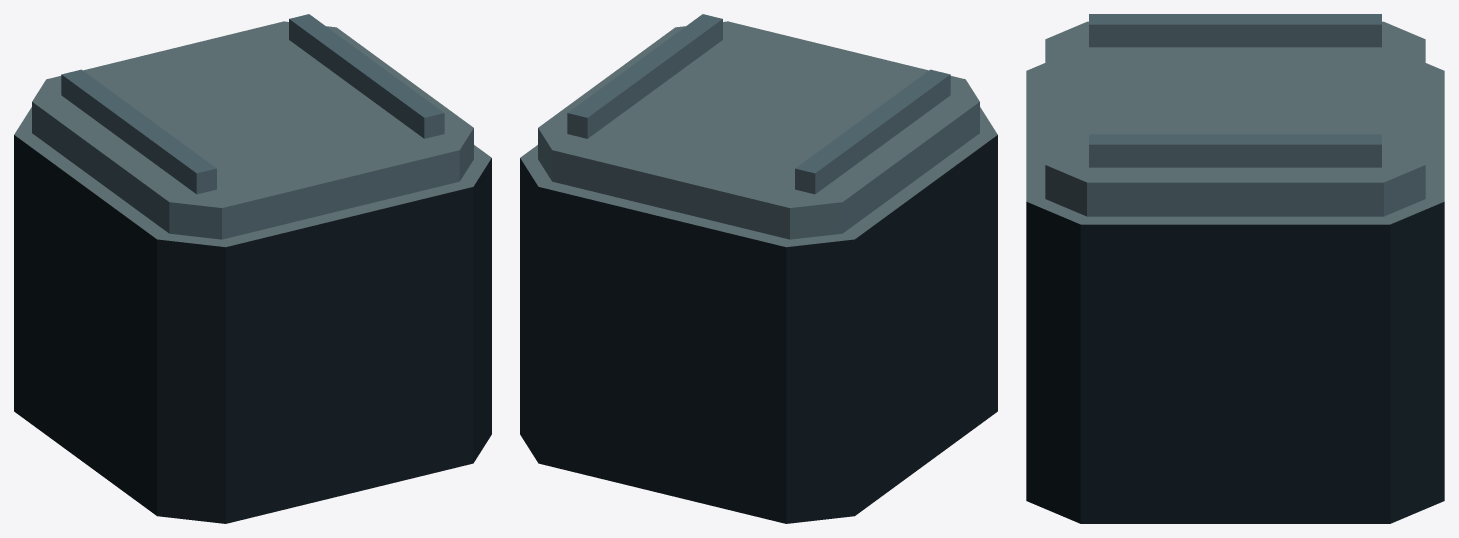
File: cover.glb
3 views of the same model, side by side, from view 1: azimuth 30°, elevation 25°; view 2: azimuth 150°, elevation 25°; view 3: azimuth 270°, elevation 25° (orthographic). The views are drawn at different scales.
Parts seen in each view (by area): view 1: cover; view 2: cover; view 3: cover.
Boxes of the visible parts, x1=… form: cover: x1=14, y1=14, x2=491, y2=523; cover: x1=520, y1=14, x2=997, y2=523; cover: x1=1026, y1=14, x2=1444, y2=523.
Bounding box in the file's own units: 1 × 0.94 × 1.
